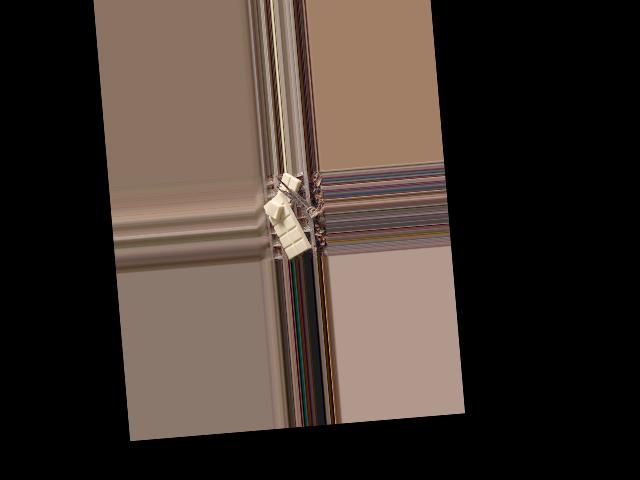chocolate: (262, 188, 310, 260)
